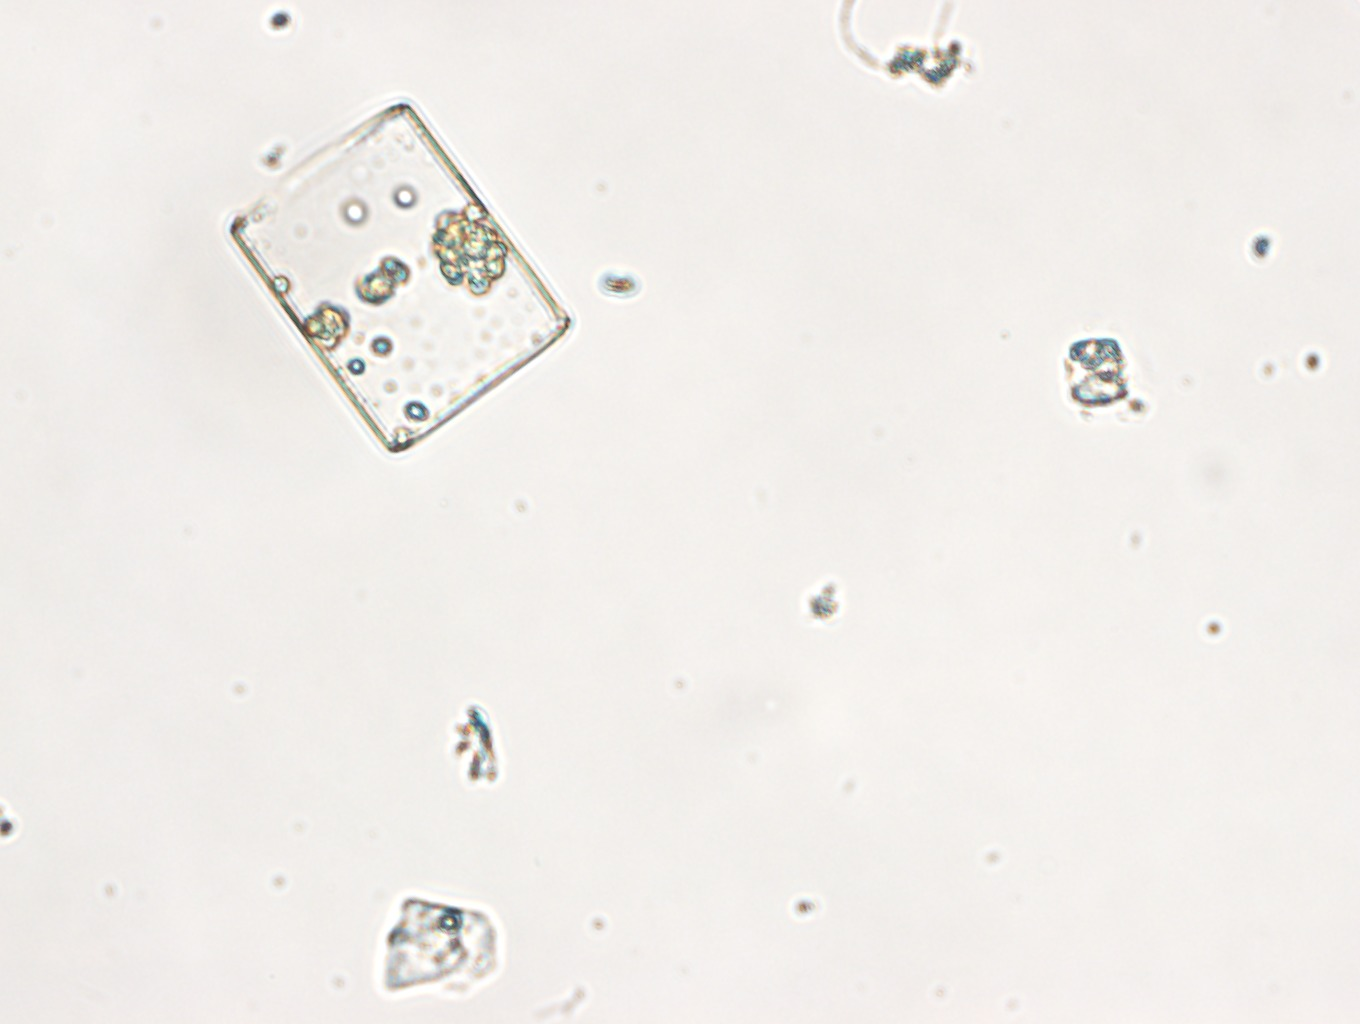guinardia flaccida: (229, 101, 572, 452)
